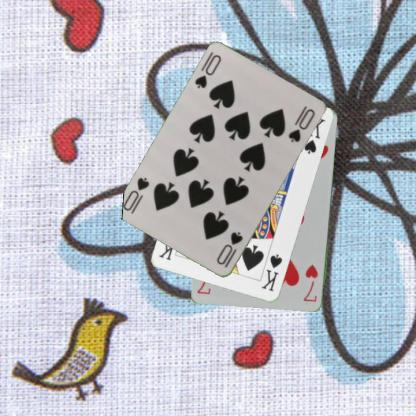10s: (192, 52, 223, 90), (214, 229, 244, 267)
7h: (301, 262, 320, 304)
Ks: (259, 251, 284, 293)
